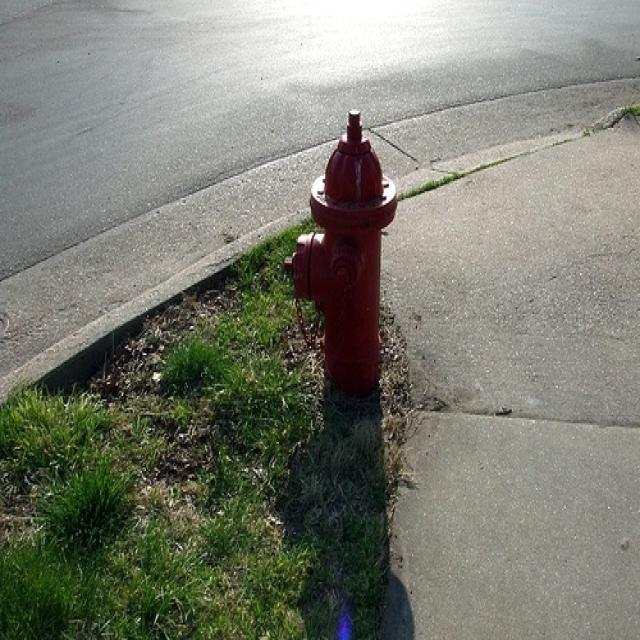fire_hydrant: (288, 106, 433, 446)
